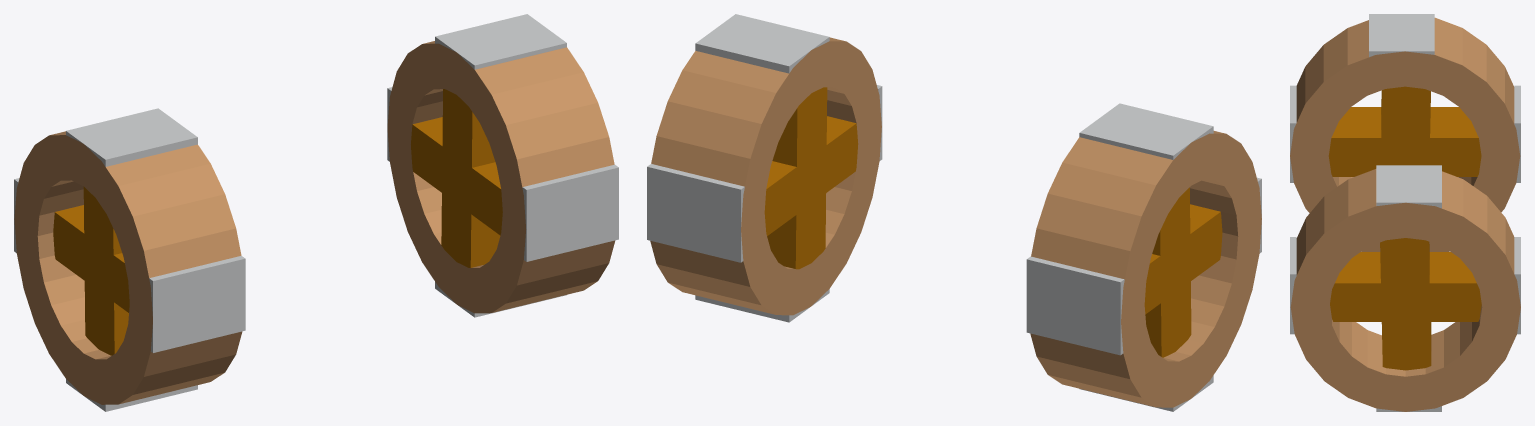
File: POGOvip-2 wheels front.glb
The picture shows the model from 3 angles, left to right: view 1: azimuth 30°, elevation 25°; view 2: azimuth 150°, elevation 25°; view 3: azimuth 270°, elevation 25°; orthographic projection. The views are drawn at different scales.
Visible parts, largest first — view 1: Mesh_Mesh_head_geo.001_lambert2SG.001; view 2: Mesh_Mesh_head_geo.001_lambert2SG.001; view 3: Mesh_Mesh_head_geo.001_lambert2SG.001.
Boxes of the visible parts, x1,y1,x2,y2 form: Mesh_Mesh_head_geo.001_lambert2SG.001: (14,14,618,411); Mesh_Mesh_head_geo.001_lambert2SG.001: (647,14,1261,411); Mesh_Mesh_head_geo.001_lambert2SG.001: (1290,14,1520,411).
Size of the model in its own units: 5.8 by 3 by 3.
